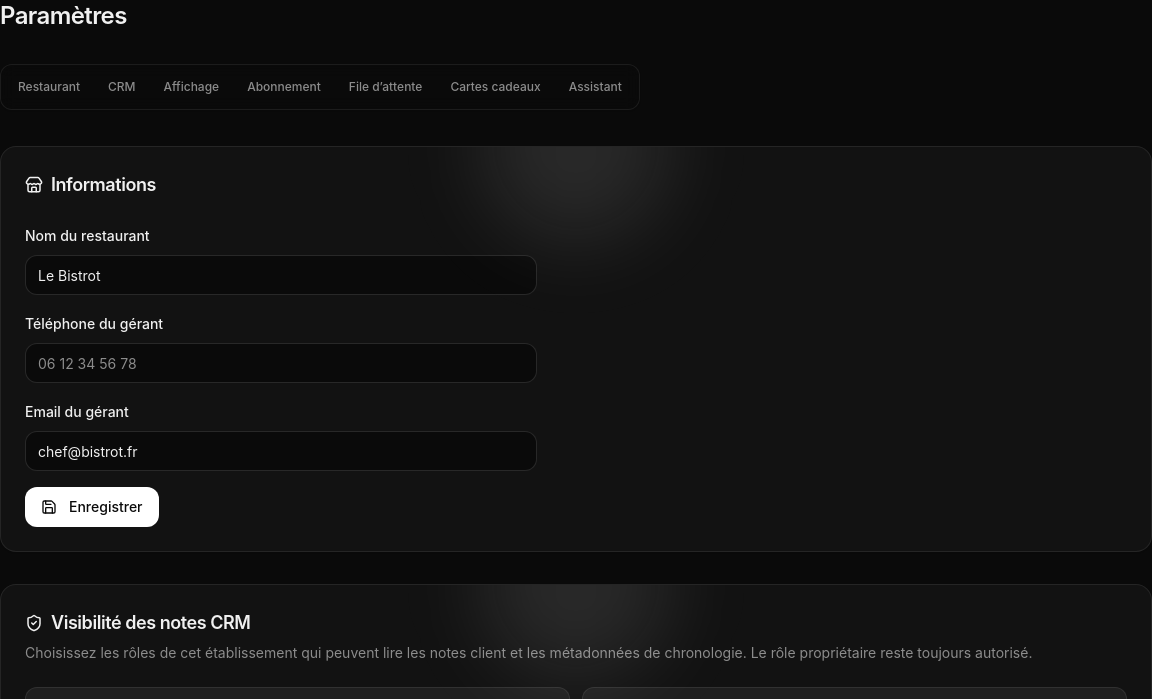
Scenario: SettingsPage › refuse un numéro invalide en français, sans appeler l’API
Expected: the field showing "Le Bistrot" is shown, [25,255,537,295]
Type "12 34" into the field labelled "Téléphone du gérant".
click(281, 363); type("12 34")  # box [25,343,537,383]
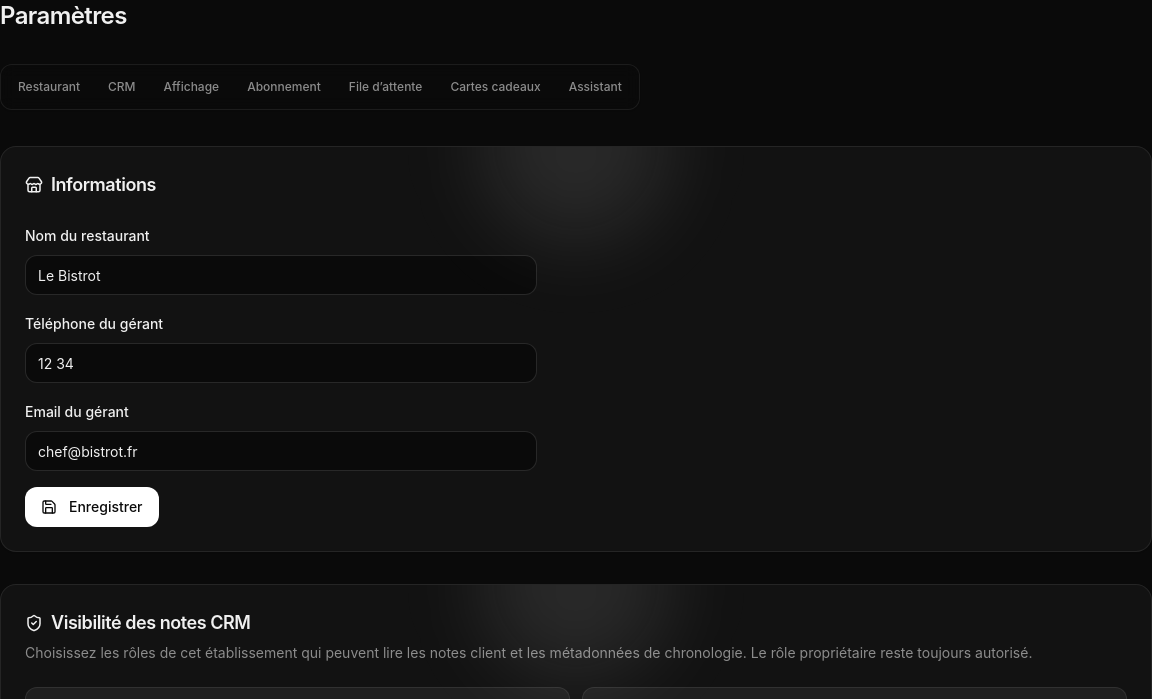
Click the button "Enregistrer".
click(92, 507)  # box [25,487,158,527]
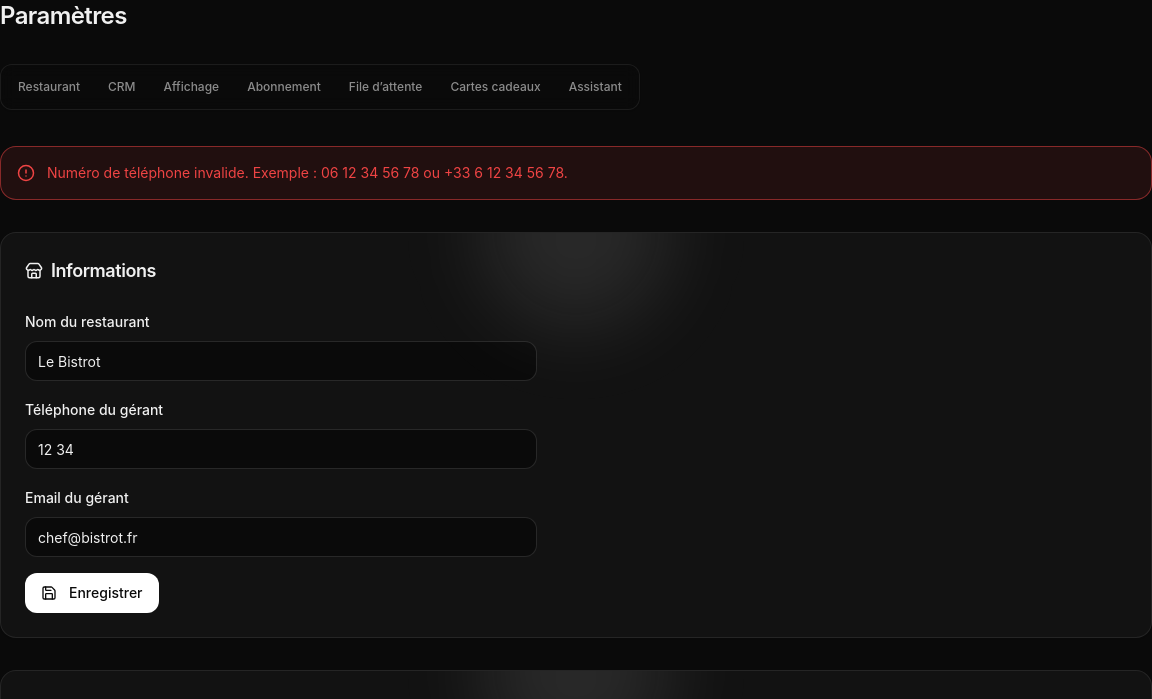
Now the message shows "Numéro de téléphone invalide", box [47,164,568,181]
